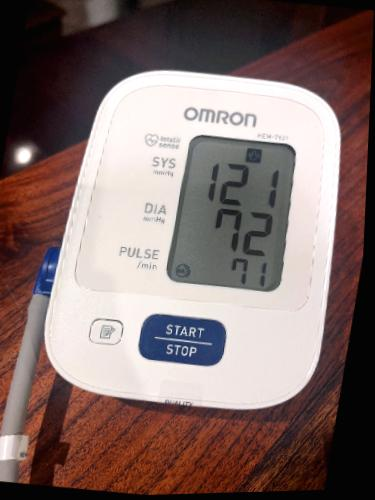bpm: (158, 128, 301, 294)
